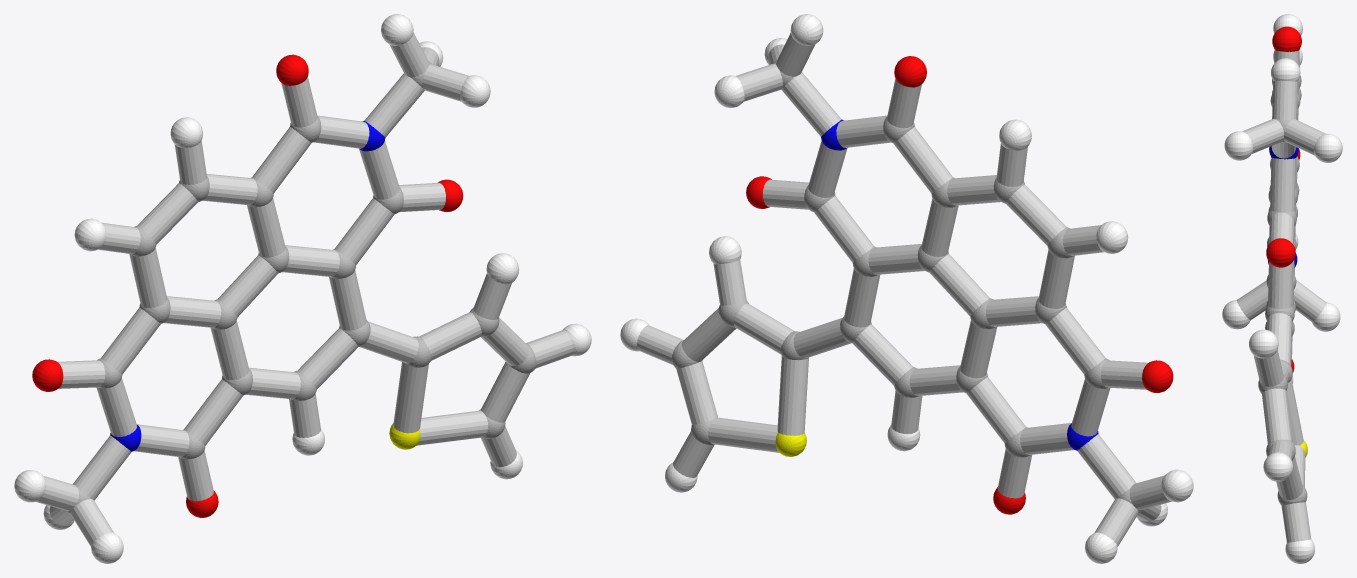
File: Dimethyl_Naphthalene_Dicarboximide_Phi_5_Theta_10_Thiophene.glb
3 renders of one model, left to right at view 1: azimuth 30°, elevation 25°; view 2: azimuth 150°, elevation 25°; view 3: azimuth 270°, elevation 25°, orthographic. The views are drawn at different scales.
Parts seen in each view (by area): view 1: grp14119, grp7241, grp1, grp12309, grp11585; view 2: grp14119, grp7241, grp1, grp12309, grp11585; view 3: grp14119, grp7241, grp1, grp12309, grp11585.
Boxes of the visible parts, box(x1,y1,x2,y2) form: grp14119: box(36, 32, 573, 546); grp7241: box(14, 14, 591, 563); grp1: box(66, 61, 536, 514); grp12309: box(32, 54, 463, 517); grp11585: box(110, 120, 385, 451); grp14119: box(636, 32, 1171, 546); grp7241: box(620, 14, 1193, 563); grp1: box(671, 60, 1143, 512); grp12309: box(746, 56, 1173, 514); grp11585: box(821, 119, 1098, 450); grp14119: box(1236, 49, 1326, 542); grp7241: box(1222, 14, 1342, 563); grp1: box(1258, 75, 1307, 505); grp12309: box(1266, 26, 1301, 372); grp11585: box(1267, 146, 1298, 267).
Size of the model in its own units: 12.07 by 10.06 by 2.43.
